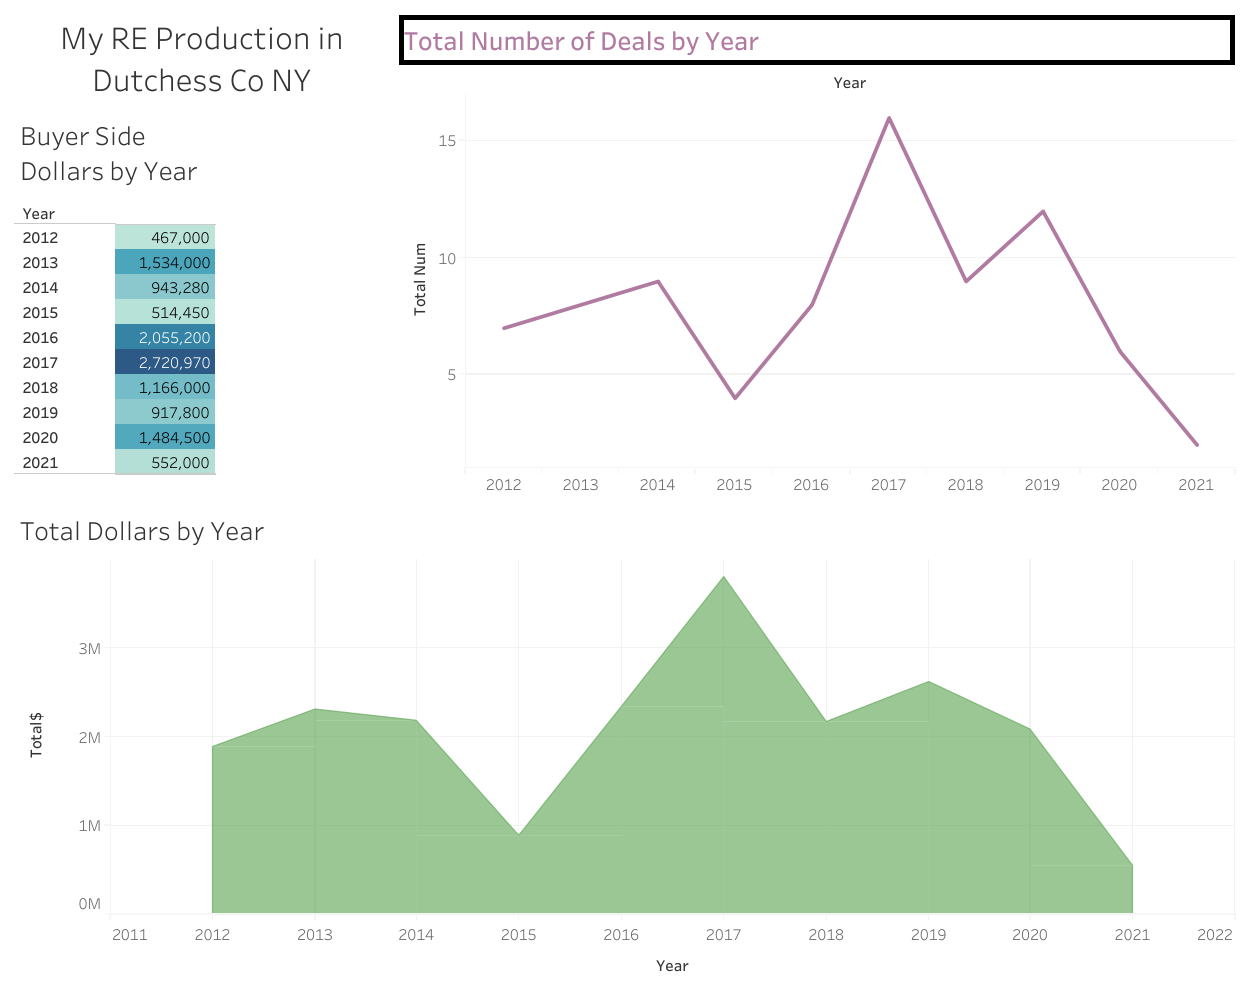

Layout of this report page (visuals, bound fields, positions):
{"tool":"tableau","page":{"name":"Dashboard 1","canvas":[1000,800],"ordinal":0},"visuals":[{"type":"title","box":[8,8,307,76]},{"type":"worksheet","title":"Total Number of Deals by Year","mark":"Line","rows":["TotalNum"],"cols":["year"],"box":[315,8,677,392]},{"type":"worksheet","title":"Buyer Side Dollars by Year","mark":"Square","rows":["year"],"box":[8,84,307,316]},{"type":"worksheet","title":"Total Dollars by Year","mark":"Area","rows":["Total$"],"cols":["year"],"box":[8,400,984,392]}]}

Visuals, with their boxes in screenshot pixels (x1, y1, x2, y2), scaled from the page's 1000x800 canvas onto the 1249x999 screenshot:
title: [10, 10, 393, 105]
"Total Number of Deals by Year" worksheet (Line marks): [393, 10, 1239, 500]
"Buyer Side Dollars by Year" worksheet (Square marks): [10, 105, 393, 500]
"Total Dollars by Year" worksheet (Area marks): [10, 500, 1239, 989]
